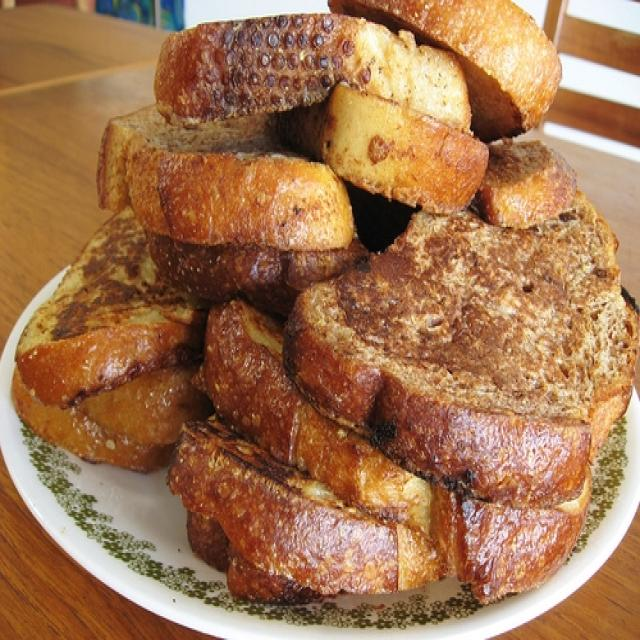面包点心: (15, 10, 616, 604)
